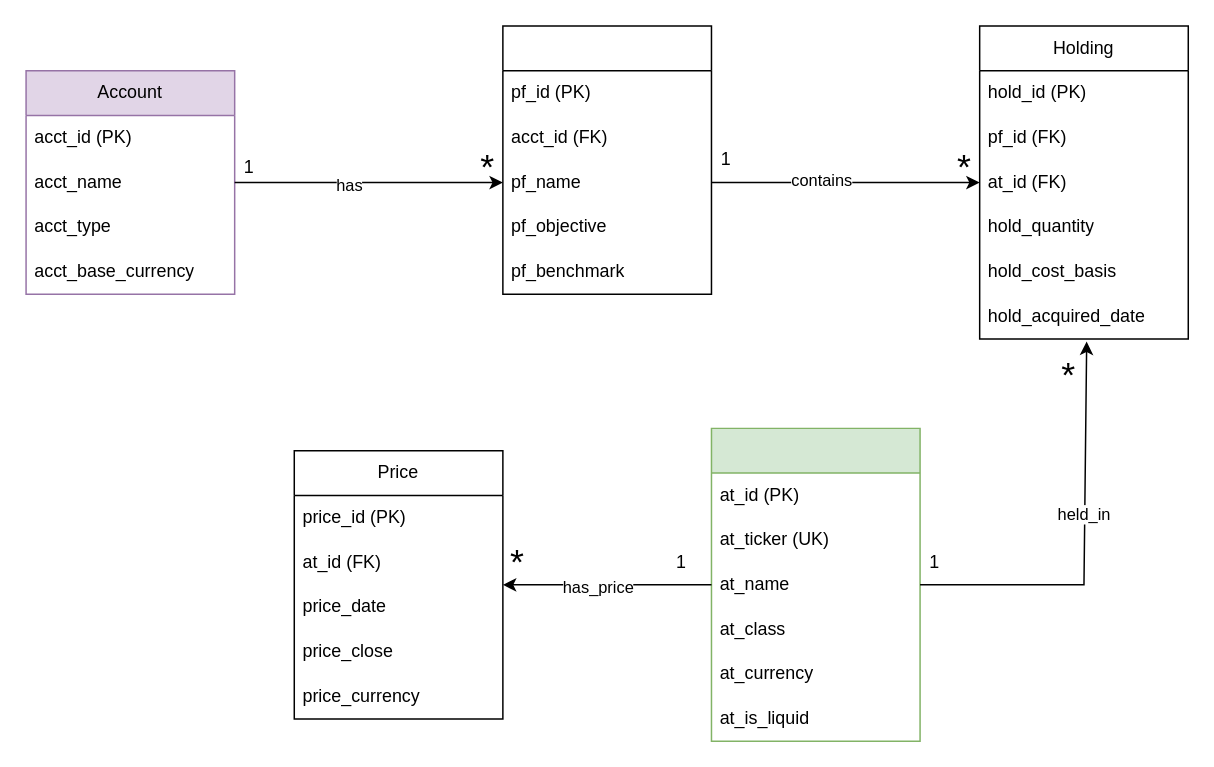
The diagram is 1214 pixels wide and 767 high, and some of its shapes have lost their labels. The box of each missing label's shape, as (x1, y1, x2, y2) in pixels:
Asset: (710, 427, 920, 741)
Portfolio: (501, 25, 711, 294)
